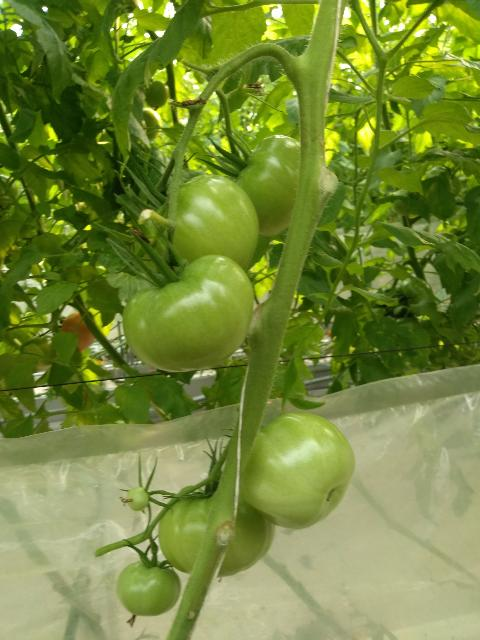b_green: (123, 256, 254, 373), (243, 412, 357, 530), (135, 175, 260, 272), (158, 492, 275, 577), (237, 135, 300, 236), (116, 559, 180, 616), (127, 487, 148, 510)
